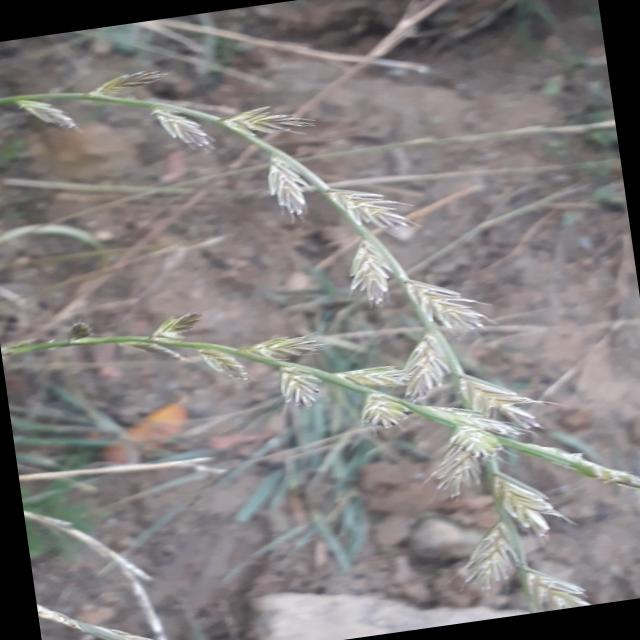Lolium: (9, 15, 593, 640), (66, 244, 640, 573)
